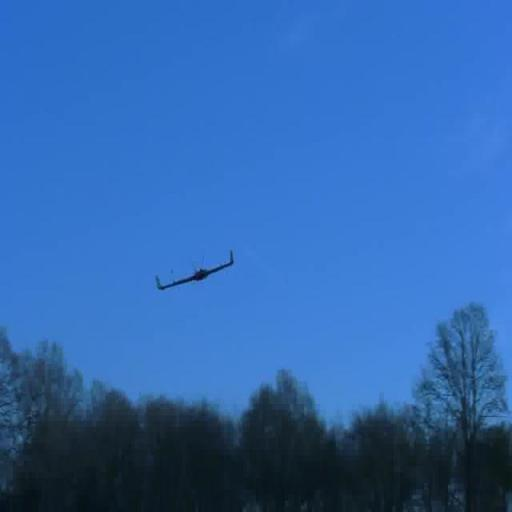uav: (152, 249, 238, 300)
